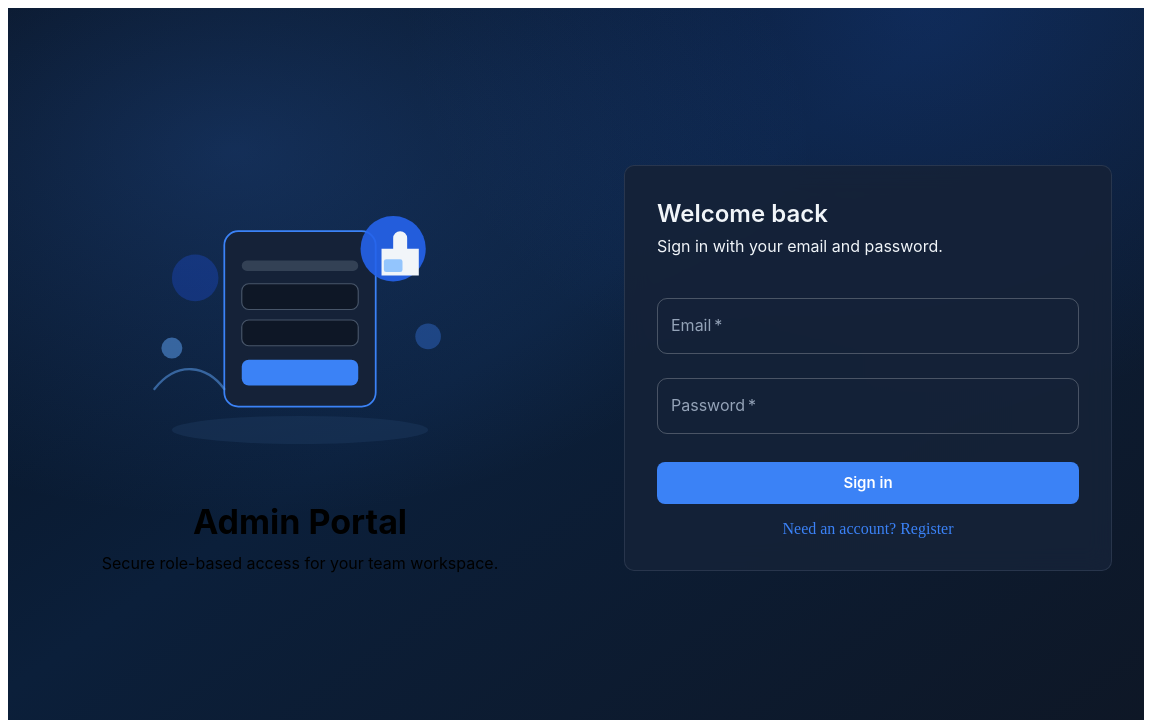
Test: LoginPage › shows a generic message for a non-Error failure
The image size is (1152, 720).
In the field labelled "Email *": {"x": 868, "y": 326} x1=657 y1=298 x2=1079 y2=354, type "  ada@example.com  "
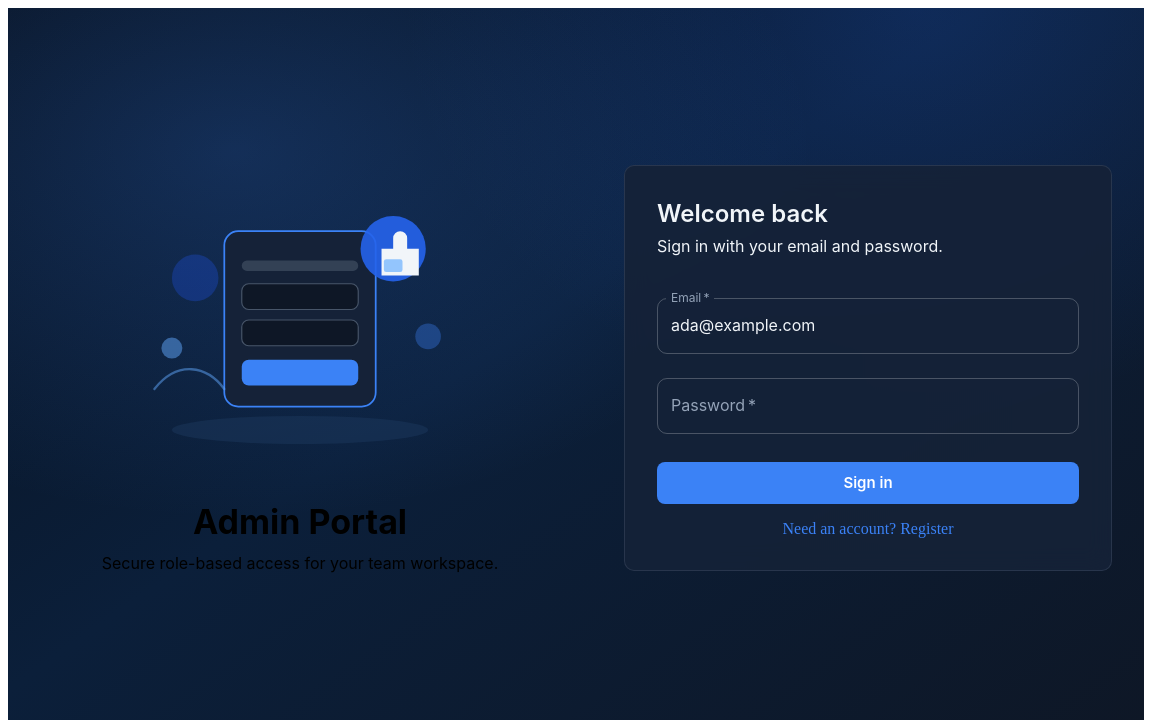
In the password field labelled "Password *": {"x": 868, "y": 406} x1=657 y1=378 x2=1079 y2=434, type "secret"
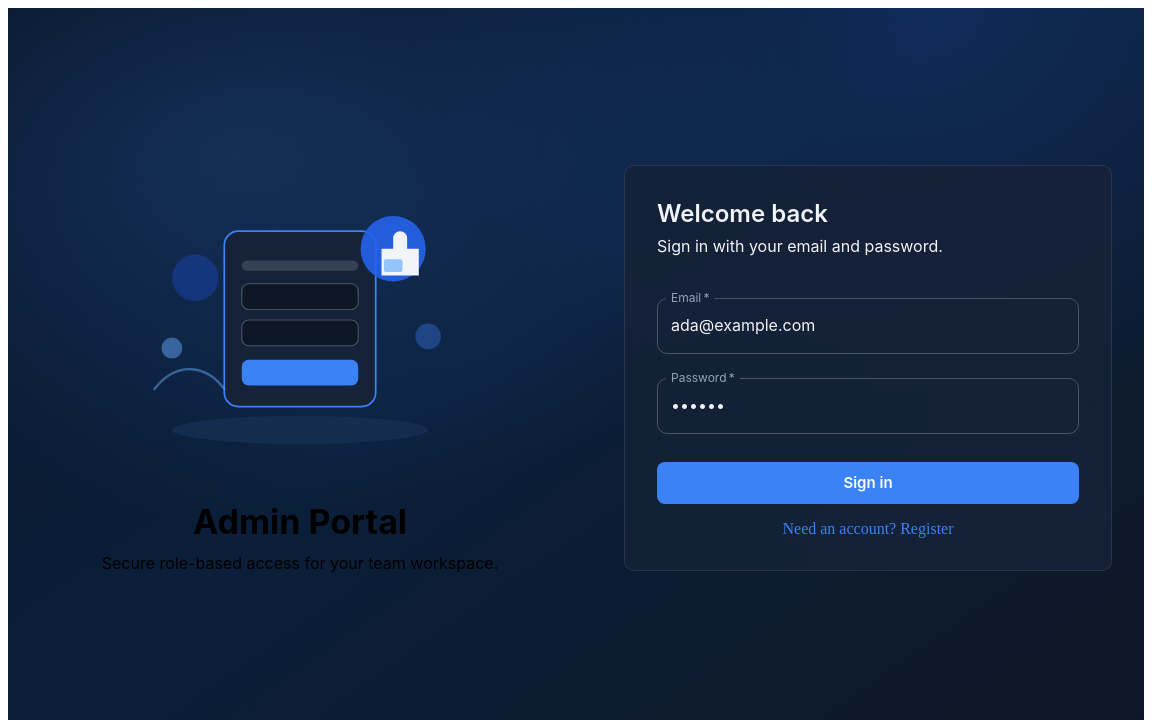
Click the button "Sign in": {"x": 868, "y": 483} x1=657 y1=462 x2=1079 y2=504
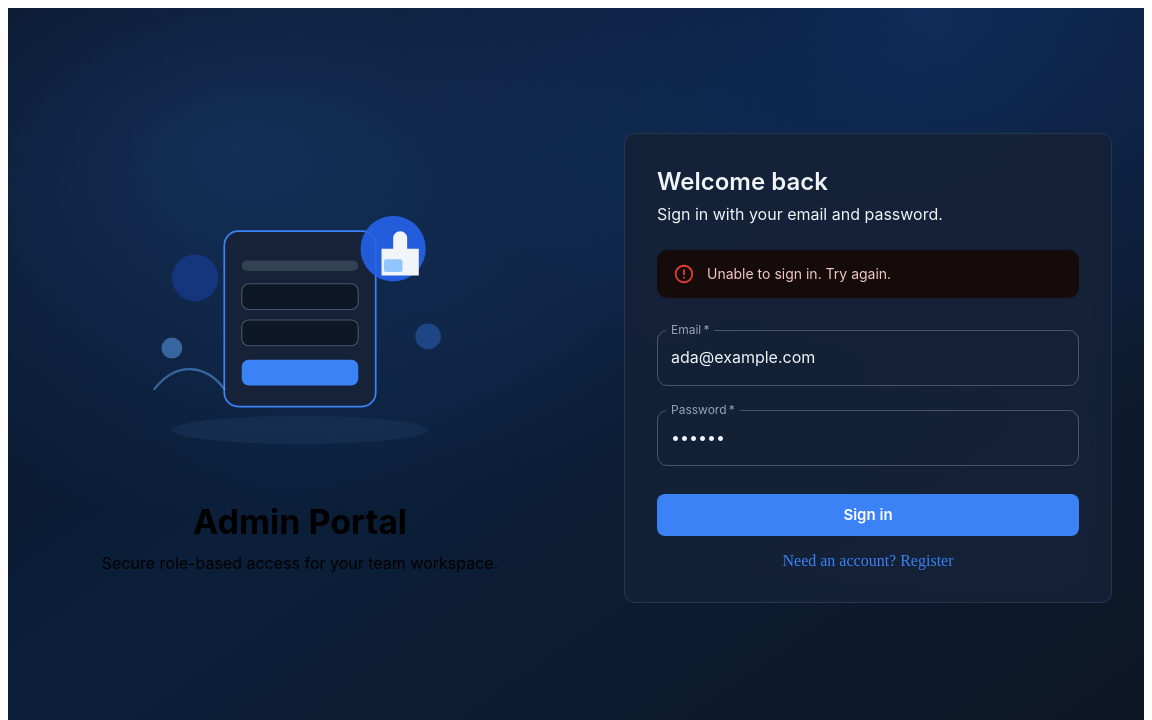
Now the text "Unable to sign in. Try again." is shown, box x1=707 y1=265 x2=891 y2=282
